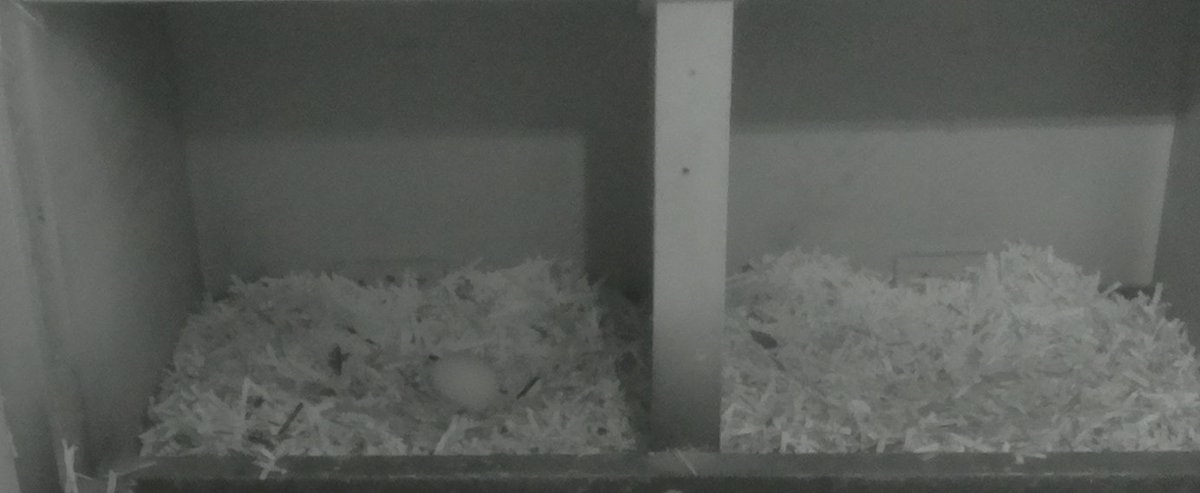egg: (424, 350, 504, 419)
